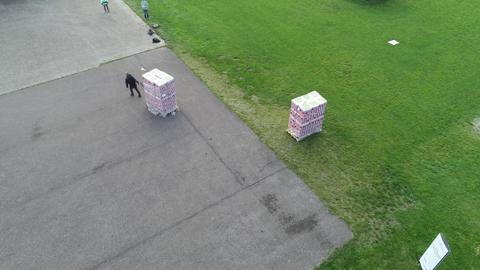RockwoolPallet: (145, 67, 177, 117)
